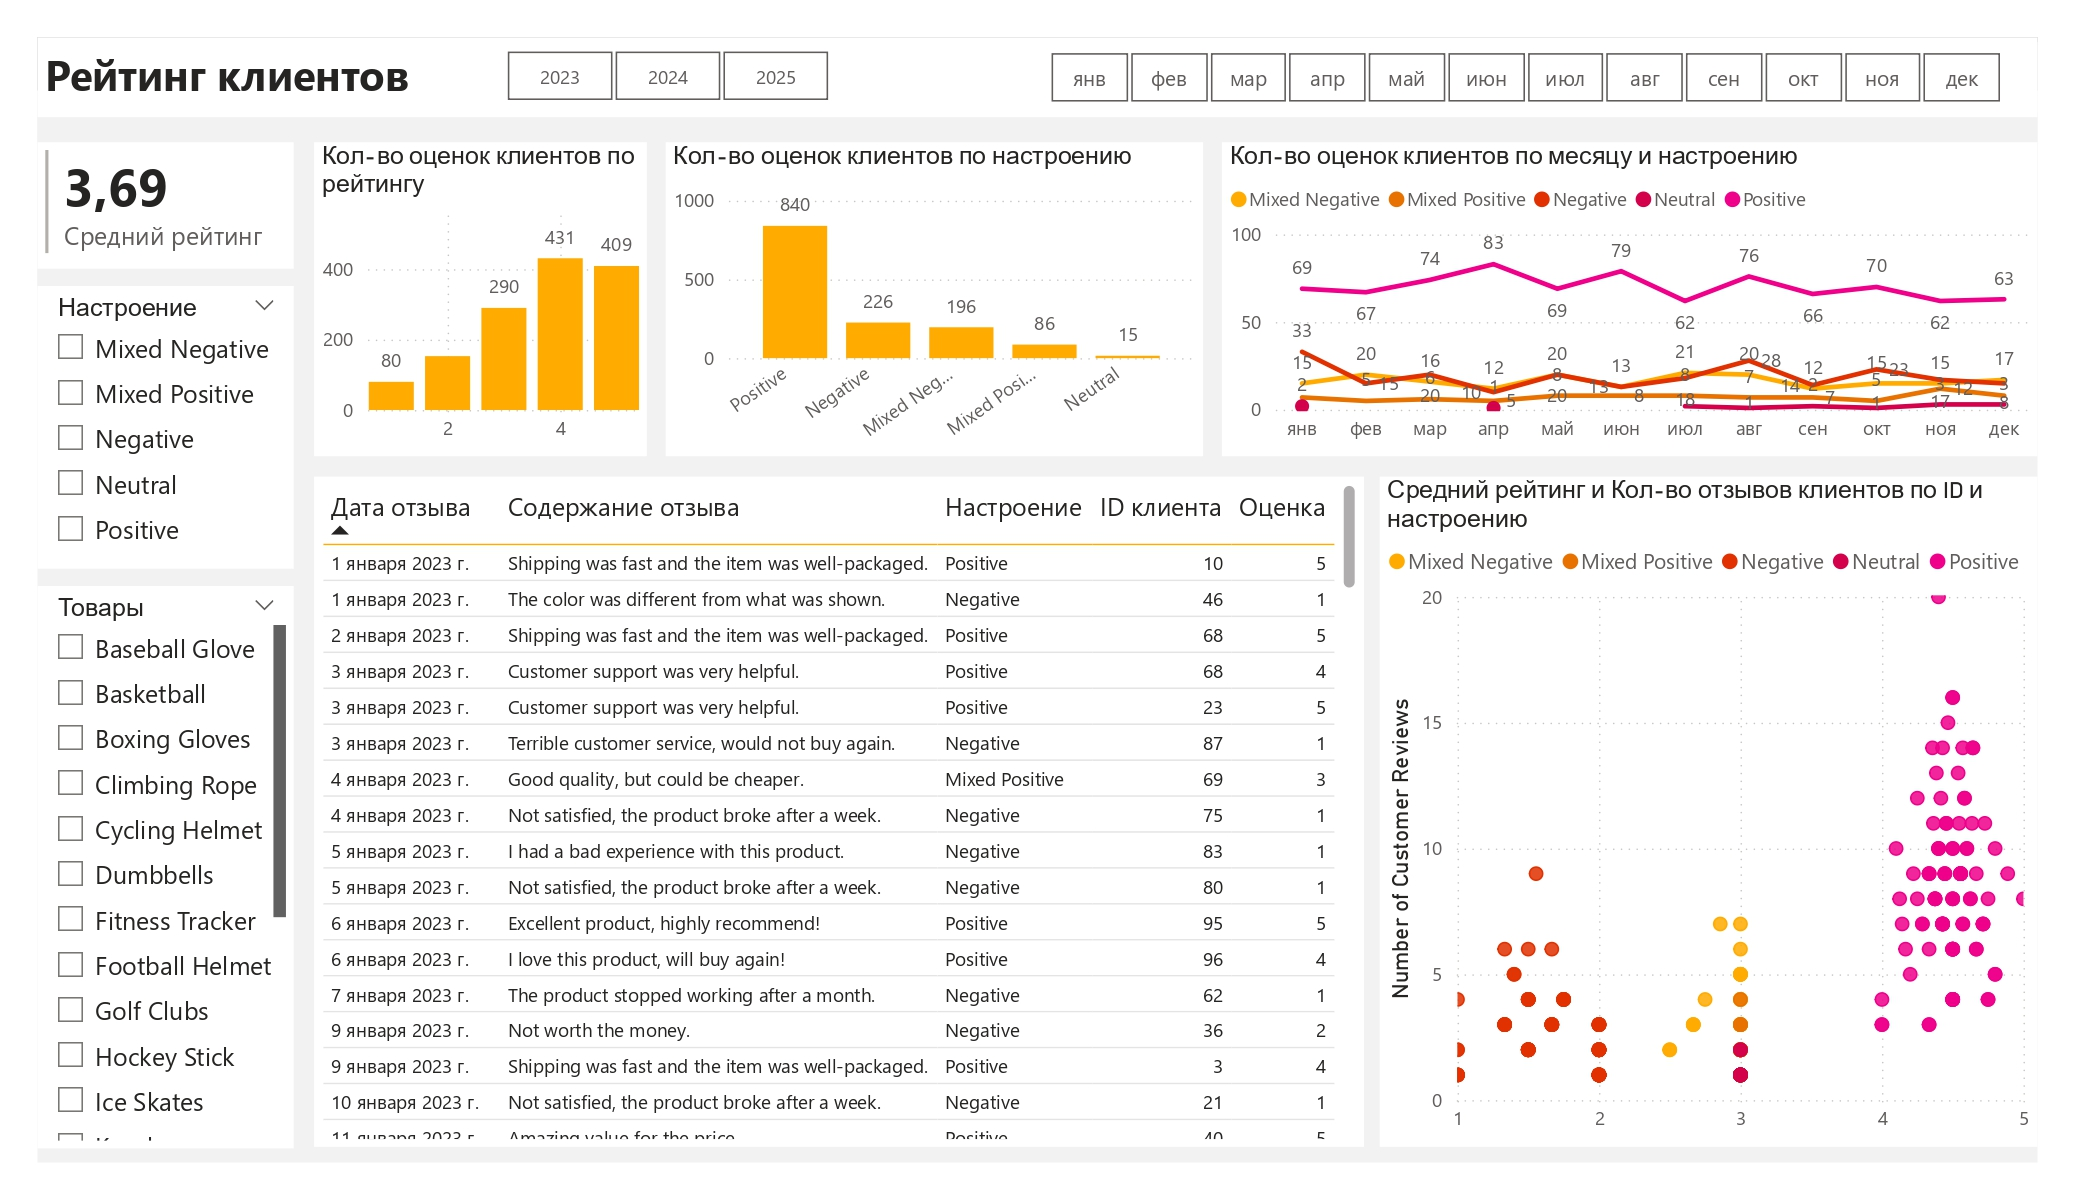

The dashboard page shown, as its layout file describes it:
{"tool":"powerbi","page":{"name":"Анализ рейтинга клиентов","canvas":[1280,720],"ordinal":3},"visuals":[{"type":"actionButton","box":[0,0,100,40],"z":0},{"type":"textbox","box":[0,0,1280.3,50.8],"z":1000},{"type":"slicer","fields":{"Values":["dim_products.ProductName"]},"box":[0,351.2,164.2,359.4],"z":2000},{"type":"multiRowCard","fields":{"Values":["_Calculations.Rating (Average)"]},"box":[0,66.7,164.2,81.3],"z":3000},{"type":"slicer","fields":{"Values":["Calendar.Year"]},"box":[274.9,2.5,255,44.8],"z":4000},{"type":"slicer","fields":{"Values":["Calendar.MonthNameShort"]},"box":[623,2.7,657.3,45.3],"z":5000},{"type":"clusteredColumnChart","title":"Кол-во оценок клиентов по рейтингу","fields":{"Y":["_Calculations.Number of Customer Reviews"],"Category":["fact_customer_reviews_with_sentiment2.Rating"]},"box":[177.2,66.7,213,201.6],"z":6000},{"type":"clusteredColumnChart","title":"Кол-во оценок клиентов по настроению","fields":{"Y":["_Calculations.Number of Customer Reviews"],"Category":["fact_customer_reviews_with_sentiment2.SentimentCategory"]},"box":[401.6,66.7,344.7,201.6],"z":7000},{"type":"lineChart","title":"Кол-во оценок клиентов по месяцу и настроению","fields":{"Category":["Calendar.MonthNameShort"],"Y":["_Calculations.Number of Customer Reviews"],"Series":["fact_customer_reviews_with_sentiment2.SentimentCategory"]},"box":[757.7,66.7,522,201.6],"z":8000},{"type":"tableEx","fields":{"Values":["fact_customer_reviews_with_sentiment2.ReviewDate","fact_customer_reviews_with_sentiment2.ReviewText","fact_customer_reviews_with_sentiment2.SentimentCategory","fact_customer_reviews_with_sentiment2.CustomerID","fact_customer_reviews_with_sentiment2.Rating"]},"box":[176.6,280.6,672.7,429.7],"z":9000},{"type":"scatterChart","title":"Средний рейтинг и Кол-во отзывов клиентов по ID и настроению","fields":{"X":["_Calculations.Rating (Average)"],"Y":["_Calculations.Number of Customer Reviews"],"Category":["dim_customers.CustomerID"],"Series":["fact_customer_reviews_with_sentiment2.SentimentCategory"]},"box":[859.3,280.6,420.9,429.7],"z":10000},{"type":"slicer","fields":{"Values":["fact_customer_reviews_with_sentiment2.SentimentCategory"]},"box":[0,159.4,164.2,180.5],"z":11000}]}

Visuals, with their boxes on the page's 1280x720 design canvas (x1, y1, x2, y2). These are canvas units, not pixel positions in the 2075x1200 screenshot, which may show the page scaled, cropped or inside an application window:
actionButton: detection(0, 0, 100, 40)
textbox: detection(0, 0, 1280, 51)
slicer - dim_products.ProductName: detection(0, 351, 164, 711)
multiRowCard - _Calculations.Rating (Average): detection(0, 67, 164, 148)
slicer - Calendar.Year: detection(275, 2, 530, 47)
slicer - Calendar.MonthNameShort: detection(623, 3, 1280, 48)
"Кол-во оценок клиентов по рейтингу" clusteredColumnChart: detection(177, 67, 390, 268)
"Кол-во оценок клиентов по настроению" clusteredColumnChart: detection(402, 67, 746, 268)
"Кол-во оценок клиентов по месяцу и настроению" lineChart: detection(758, 67, 1280, 268)
tableEx - fact_customer_reviews_with_sentiment2.ReviewDate x fact_customer_reviews_with_sentiment2.ReviewText: detection(177, 281, 849, 710)
"Средний рейтинг и Кол-во отзывов клиентов по ID и настроению" scatterChart: detection(859, 281, 1280, 710)
slicer - fact_customer_reviews_with_sentiment2.SentimentCategory: detection(0, 159, 164, 340)
